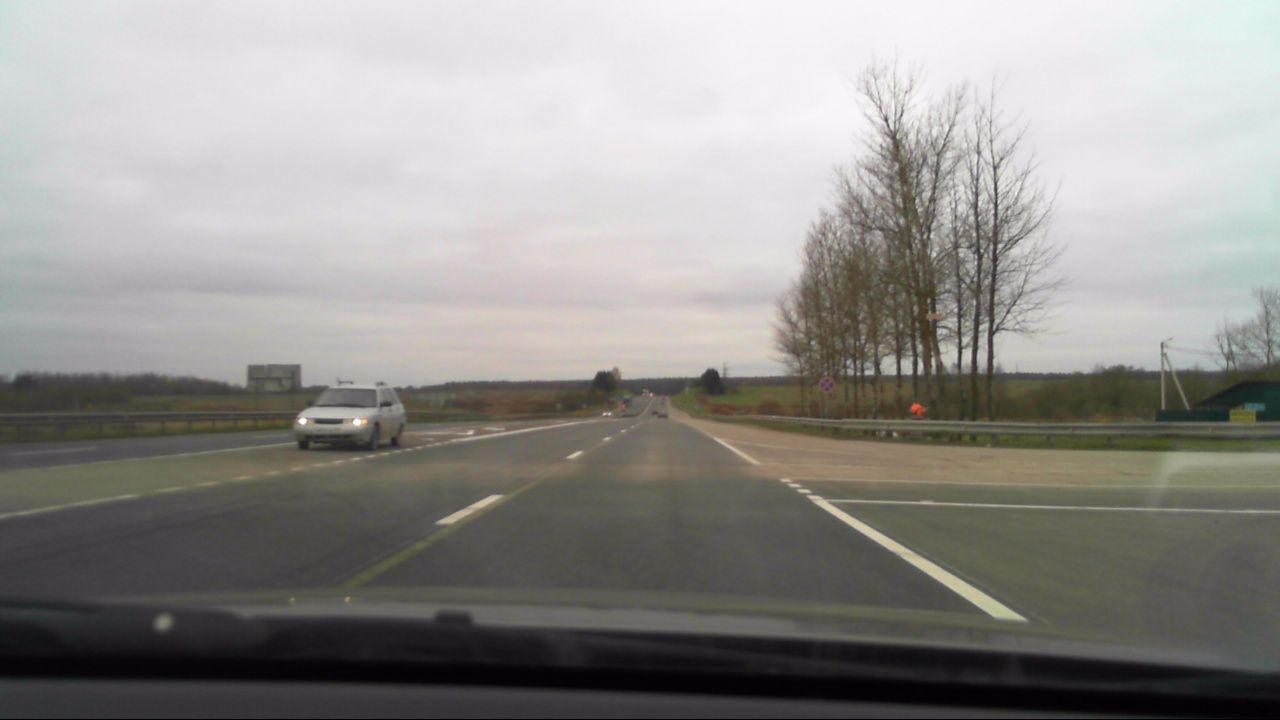No Parking: (815, 374, 835, 393)
